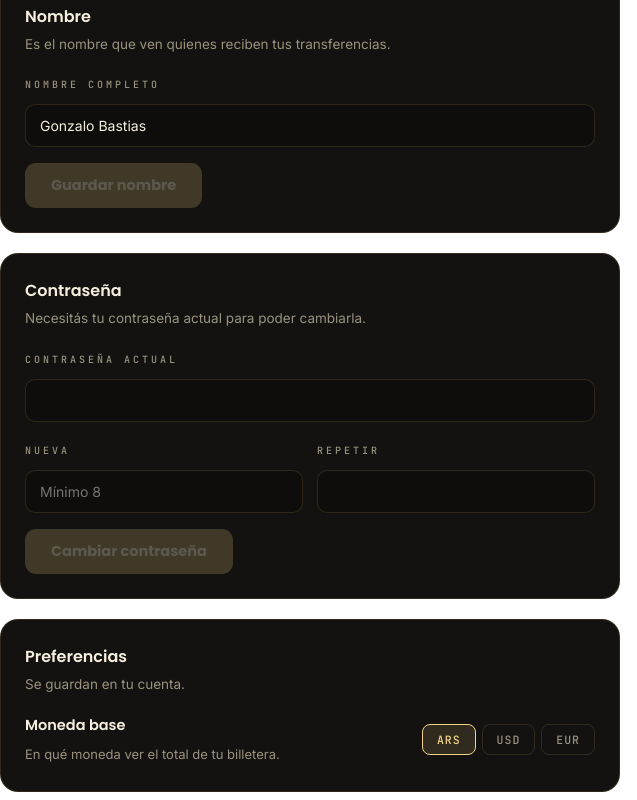
it: Configuracion › no deja cambiar la contraseña si las nuevas no coinciden
The width and height of the screenshot is (637, 800).
(page scrolled)
Type "vieja123" into the password field labelled "Contraseña actual" at (310, 400), box [25, 379, 595, 422]
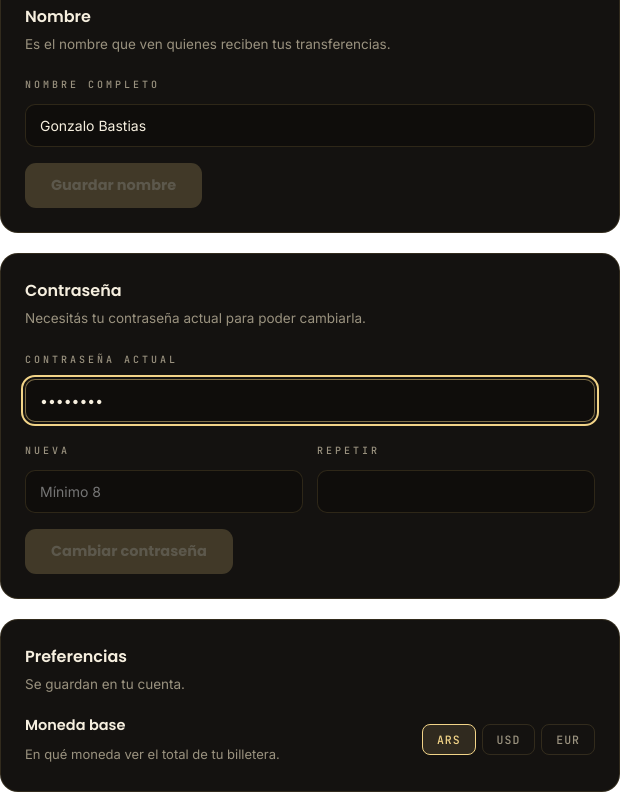
Type "secreta123" into the password field labelled "Nueva" at (164, 491), box [25, 470, 303, 513]
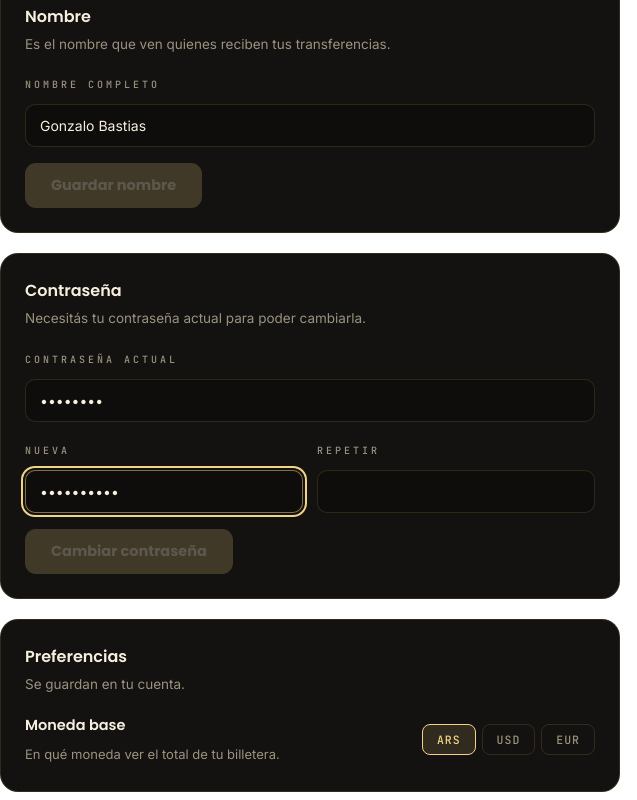
Type "otracosa123" into the password field labelled "Repetir" at (456, 491), box [317, 470, 595, 513]
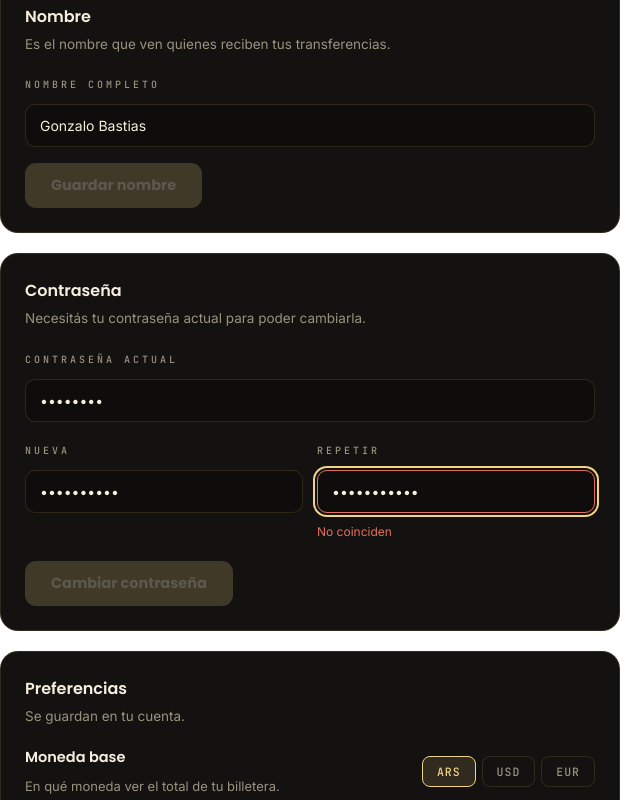
Expected: the button "Cambiar contraseña" is disabled, [25, 561, 233, 606]
Result: the text "No coinciden" is shown at [317, 524, 392, 539]
